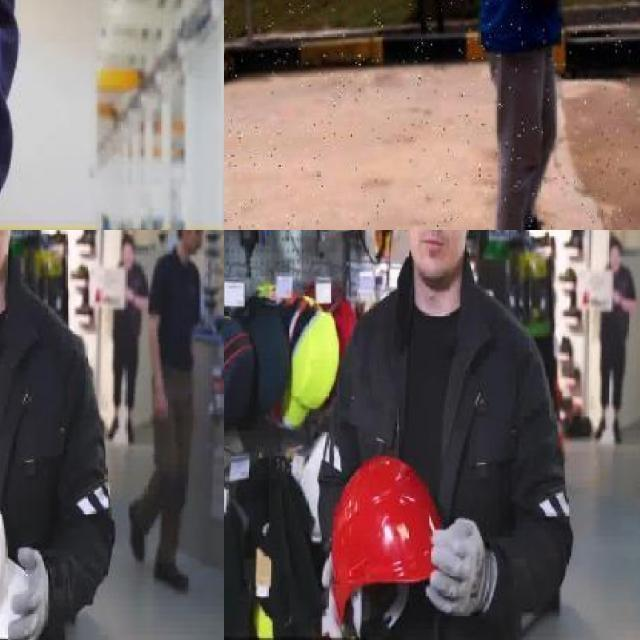apron: (423, 516, 491, 618), (5, 542, 51, 640)
